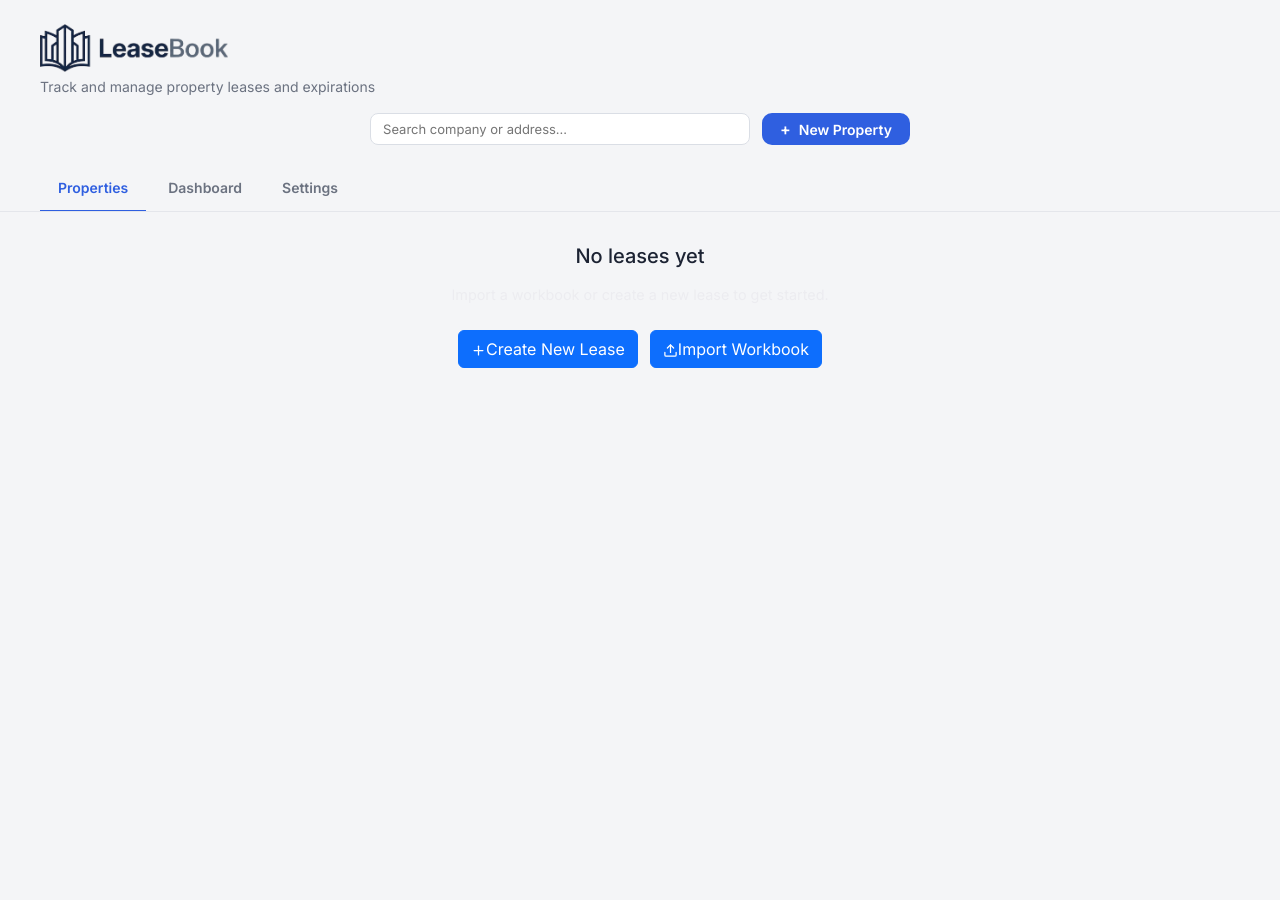
Test: App auth flow › shows password setup from Settings when auth is not configured
Click the button "Settings" at (310, 188), box [264,165,356,212]
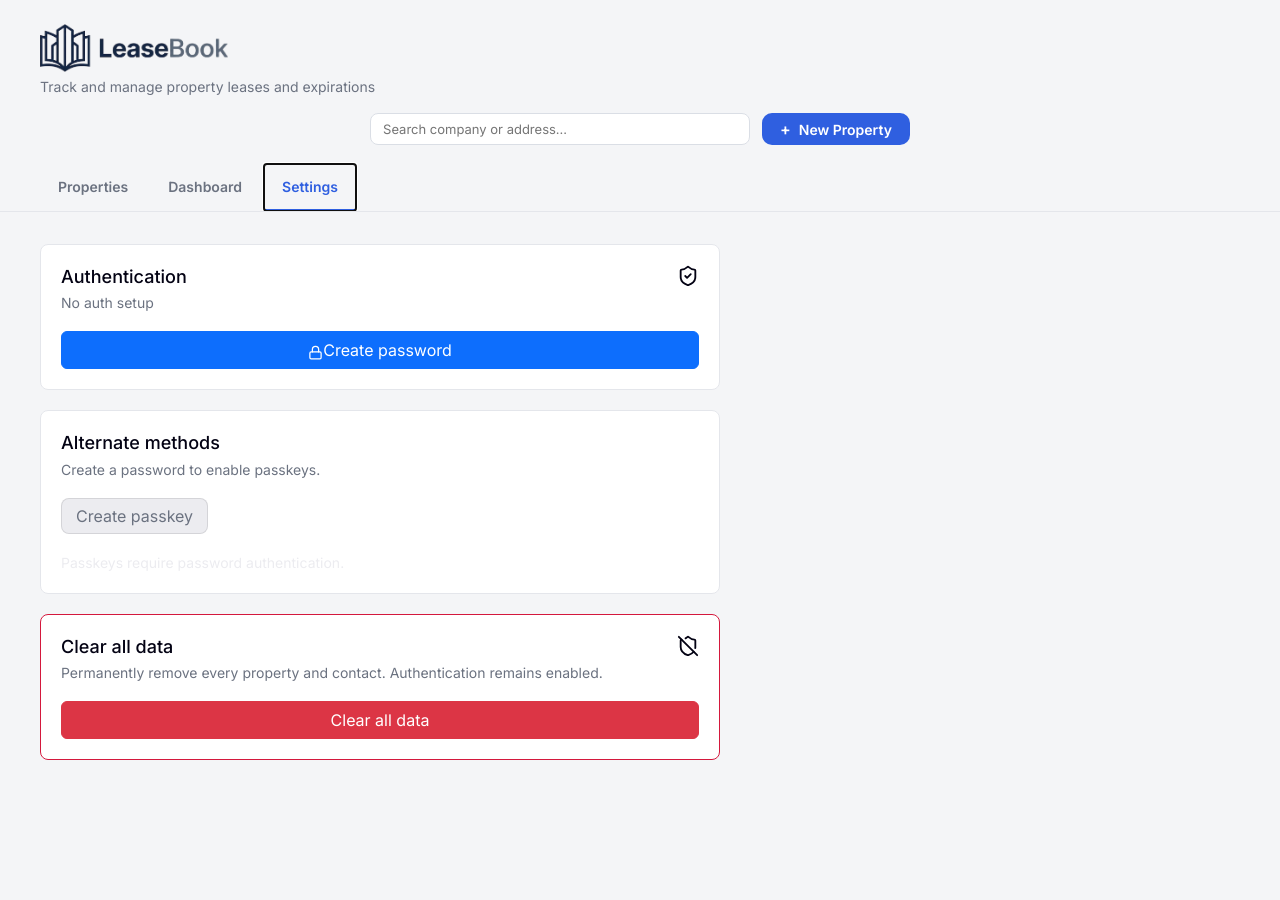
Now the text "No auth setup" is shown, box [61,294,154,311]
Click the button "Create password" at (380, 350), box [61,331,699,369]
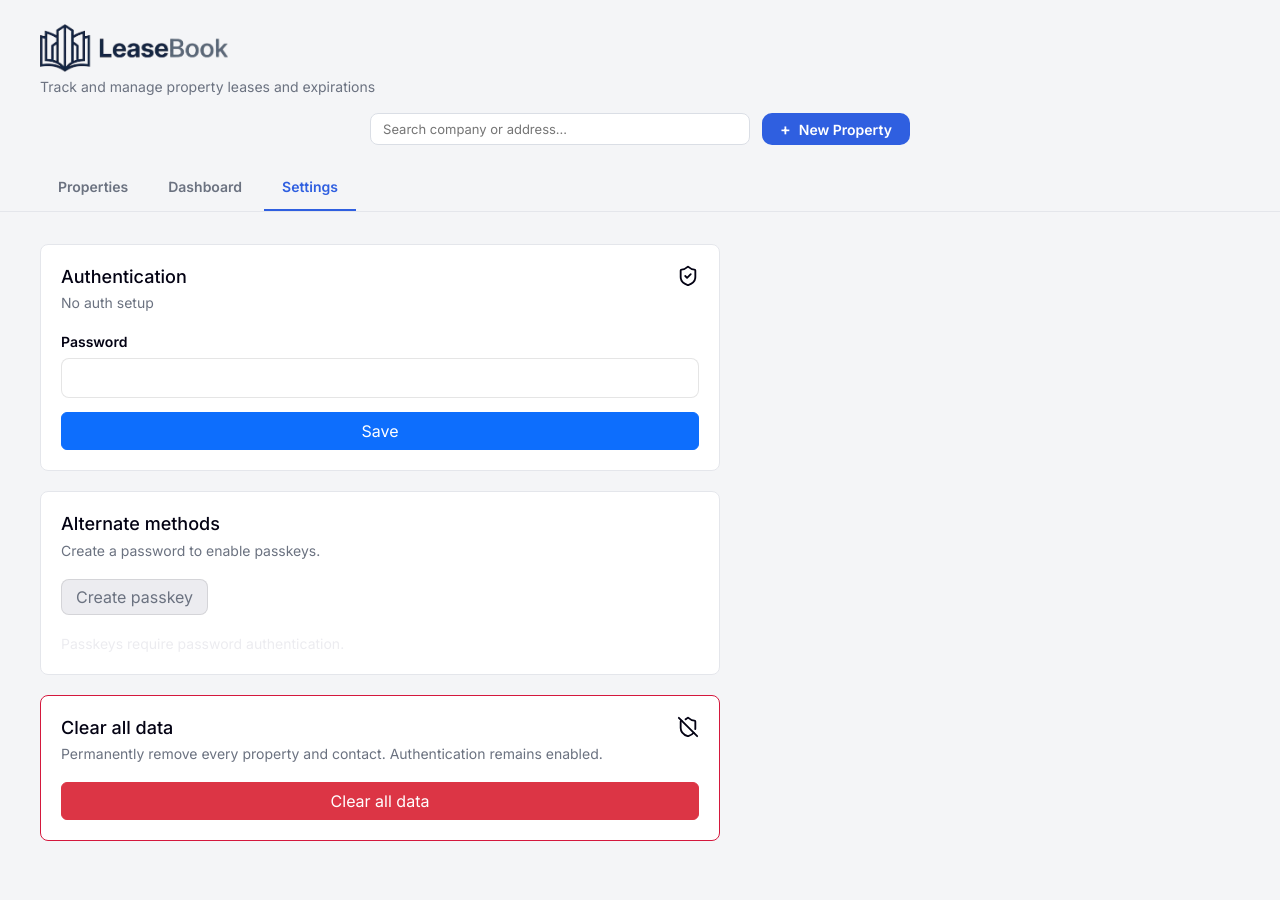
Type "correct-password" into the password field labelled "Password" at (380, 378), box [61,358,699,398]
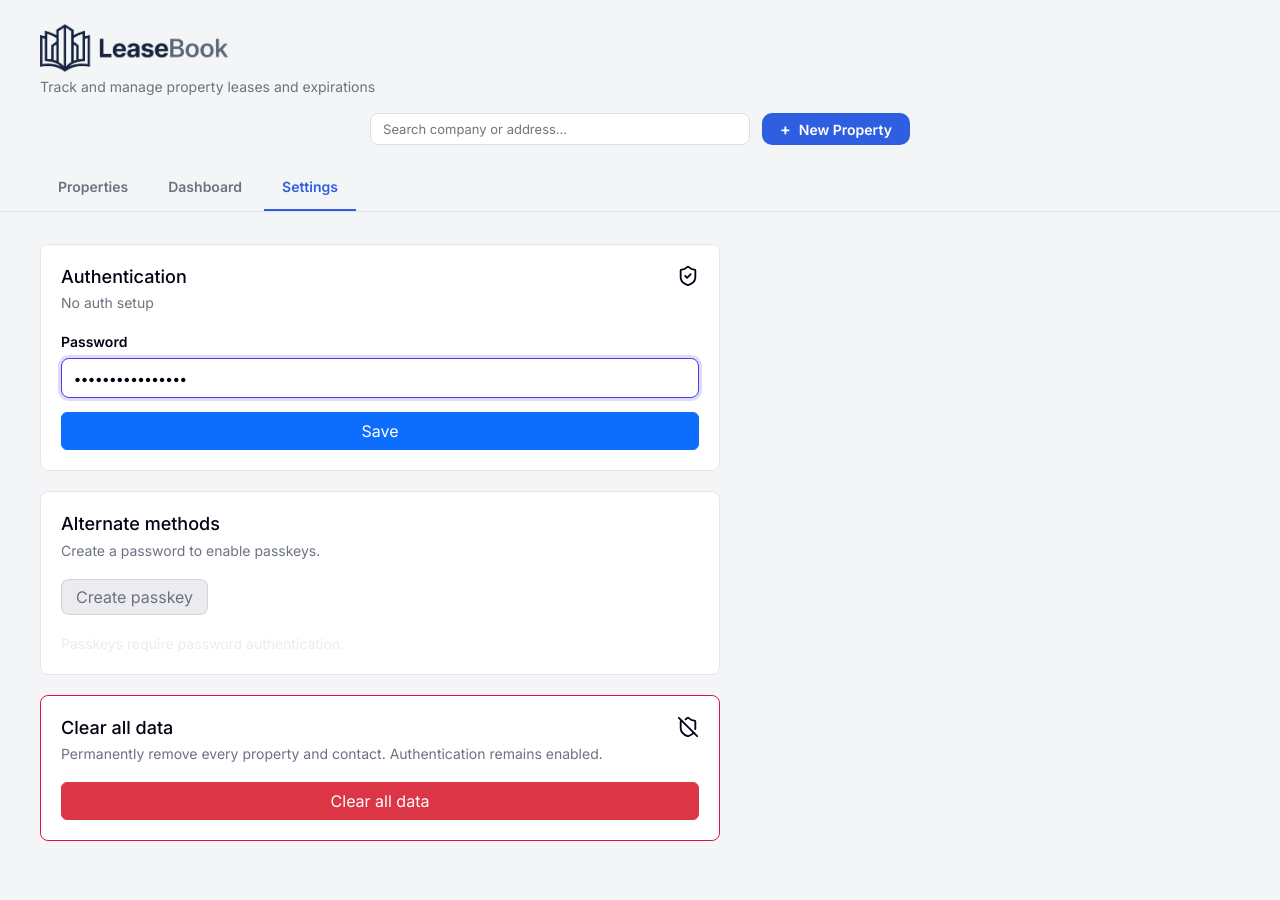
Click the button "Save" at (380, 431), box [61,412,699,450]
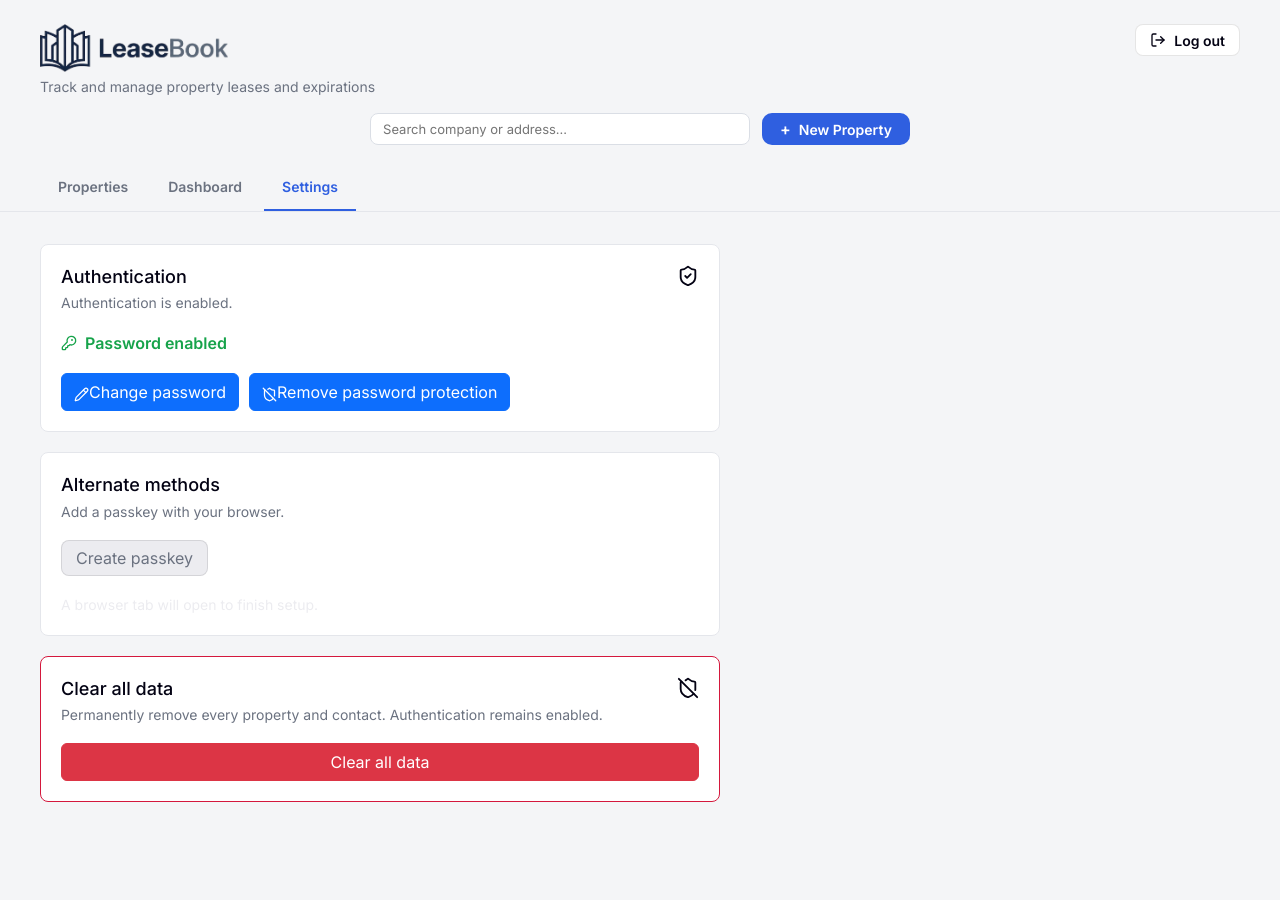
Now the text "Password enabled" is shown, box [61,333,227,353]
